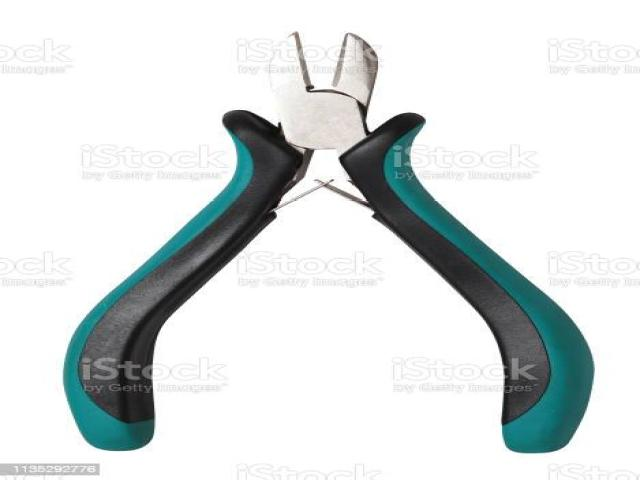Cutting pliers: (64, 33, 594, 452)
